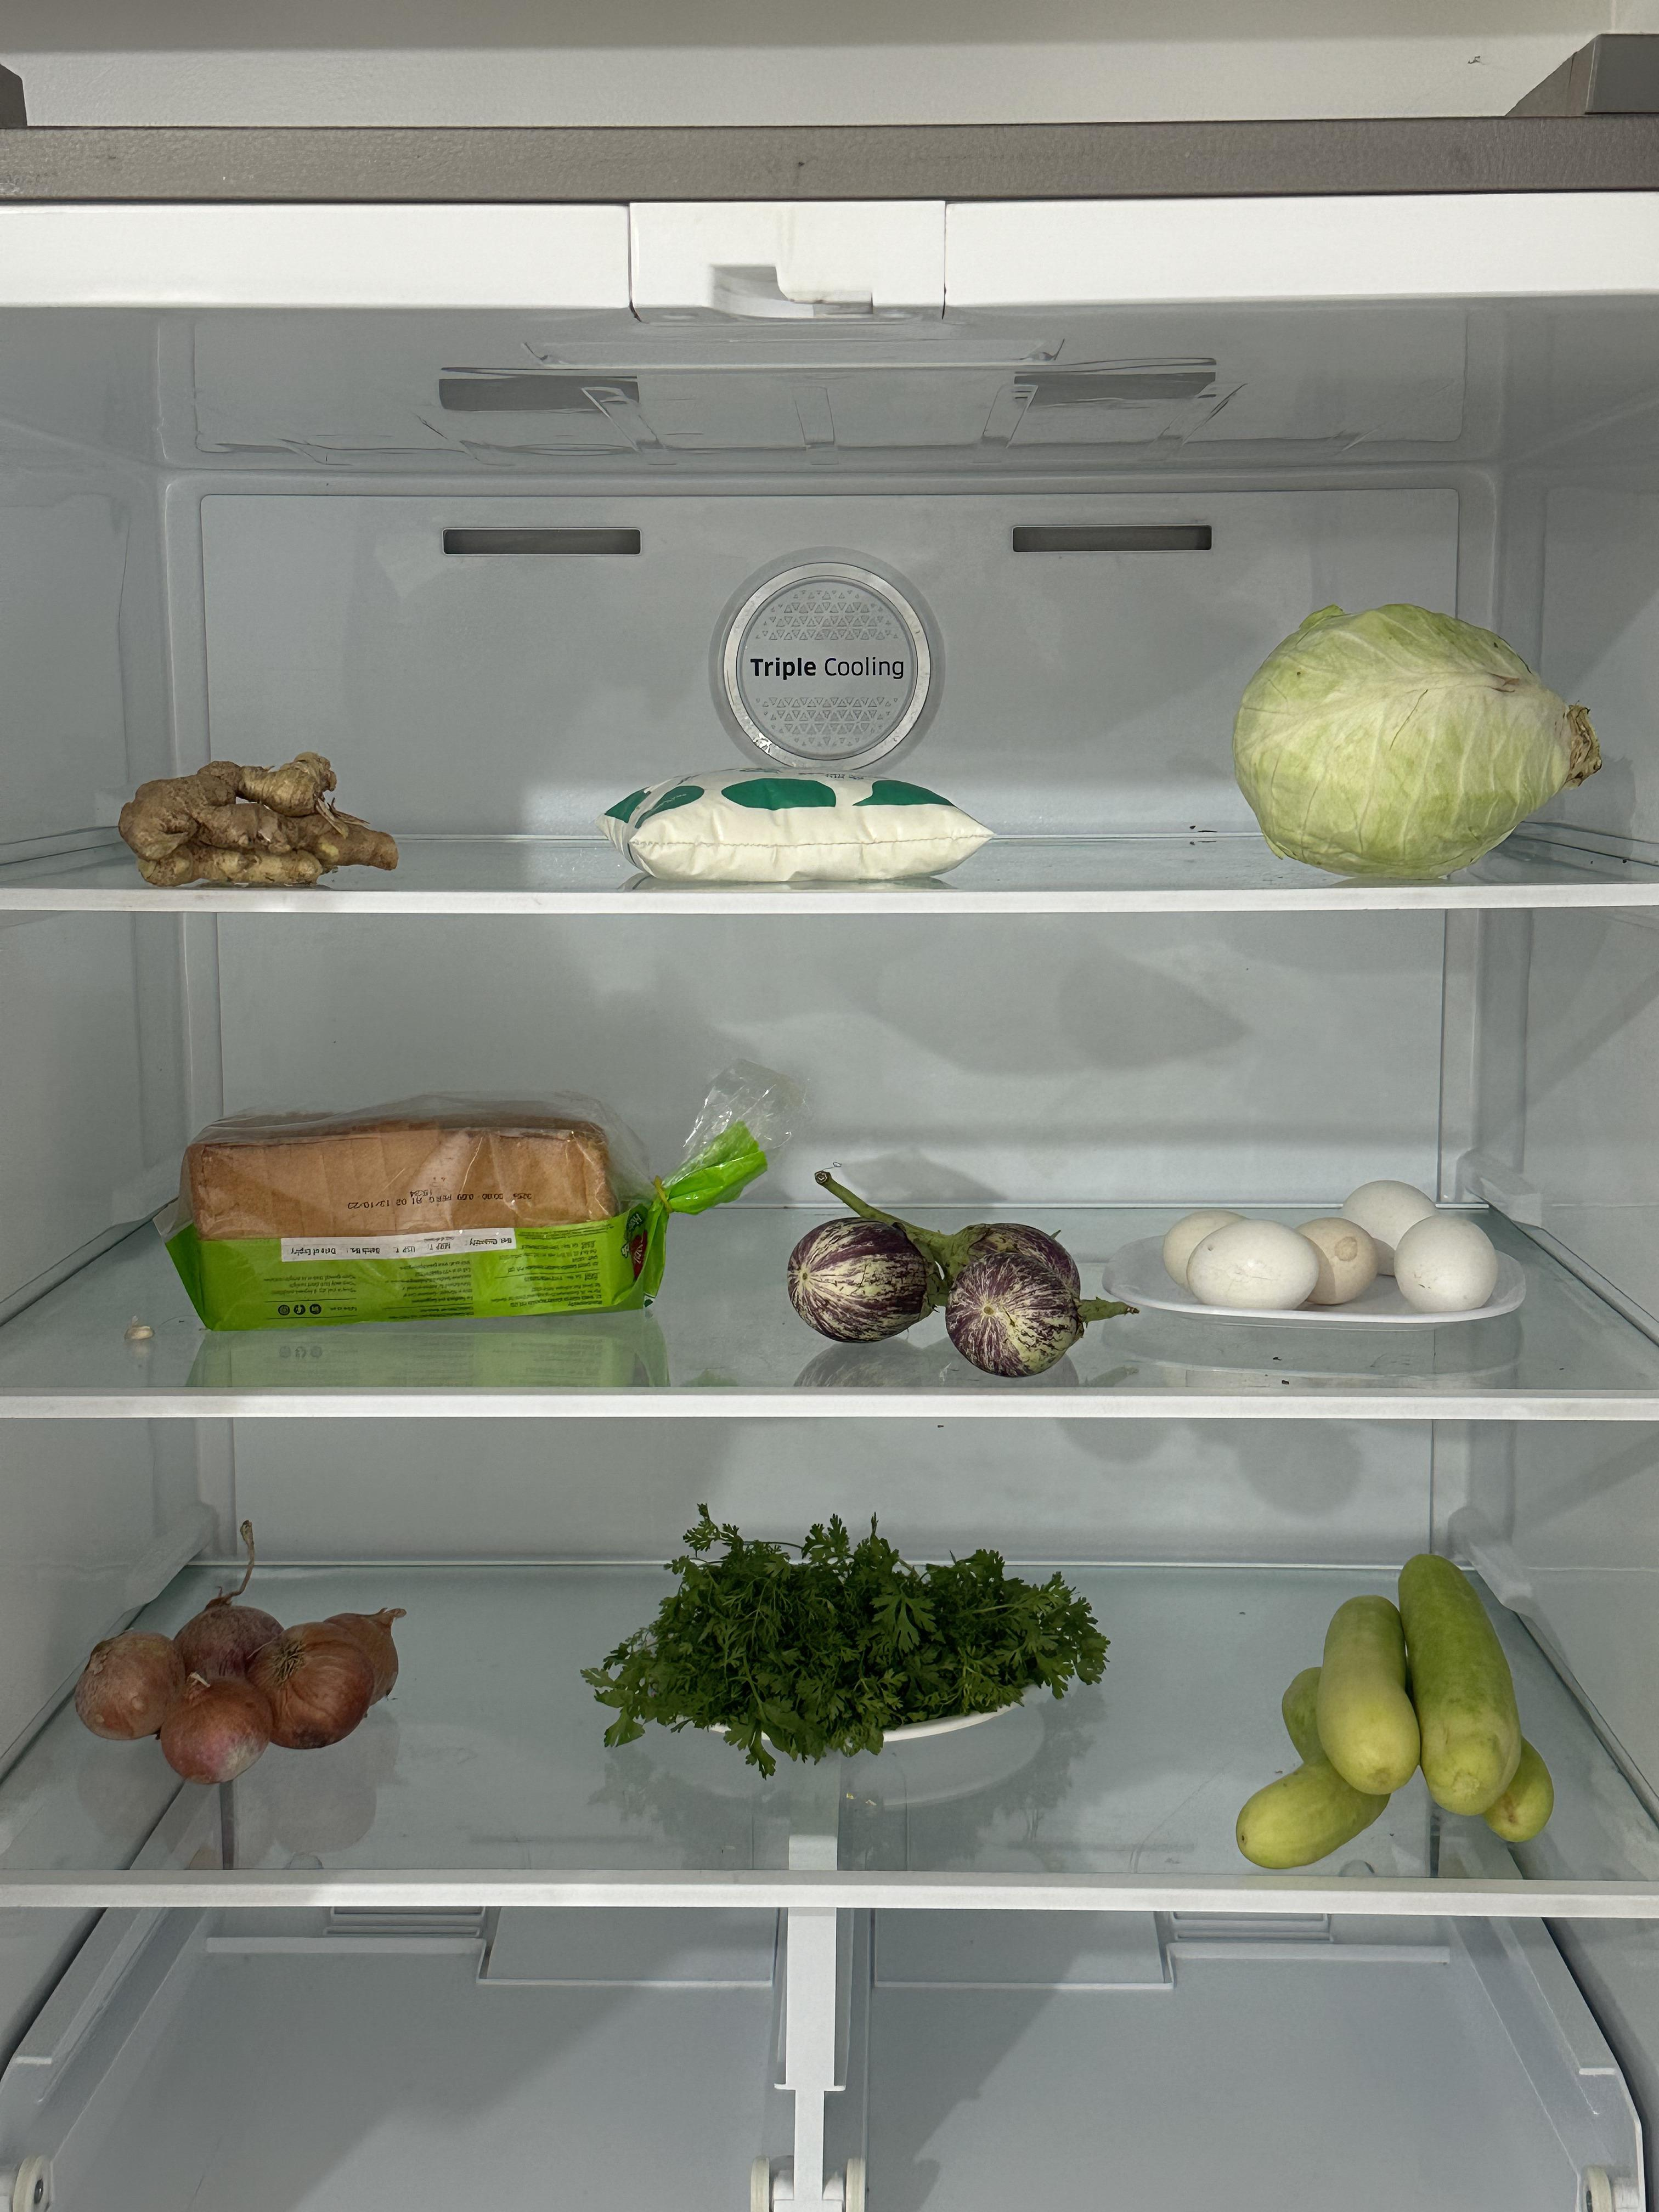bread: (166, 1076, 671, 1338)
bringal: (789, 1165, 1087, 1378)
cabbage: (1230, 597, 1601, 883)
coriander: (598, 1522, 1110, 1747)
cucumber: (1236, 1557, 1553, 1865)
egg: (1150, 1172, 1500, 1318)
ginger: (115, 752, 408, 890)
milk: (598, 759, 995, 890)
onion: (66, 1595, 399, 1791)
